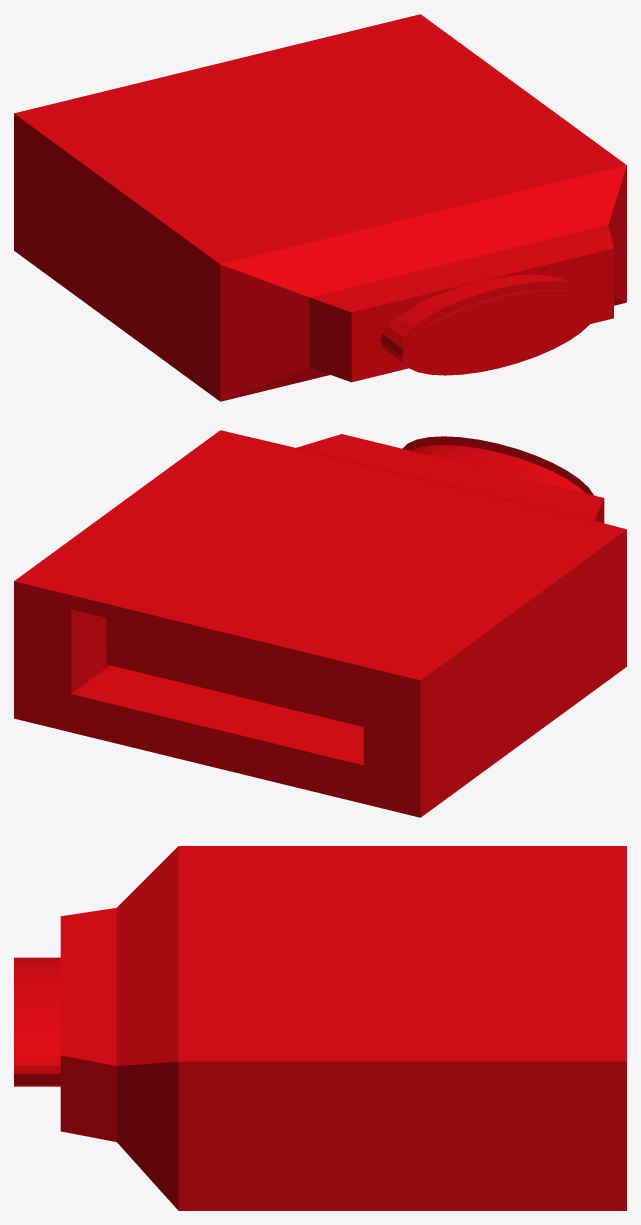
Rendered from SATA1S.fbx.
3 views of the same model, one above another, from view 1: azimuth 30°, elevation 25°; view 2: azimuth 150°, elevation 25°; view 3: azimuth 270°, elevation 25° (orthographic). The views are drawn at different scales.
Visible parts, largest first — view 1: SATA1S; view 2: SATA1S; view 3: SATA1S.
Boxes of the visible parts, x1,y1,x2,y2 form: SATA1S: [14, 14, 626, 401]; SATA1S: [14, 430, 626, 817]; SATA1S: [14, 846, 626, 1210].
Size of the model in its own units: 14.28 by 4.61 by 17.16.
